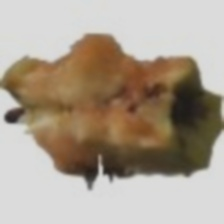apple: (17, 39, 199, 174)
